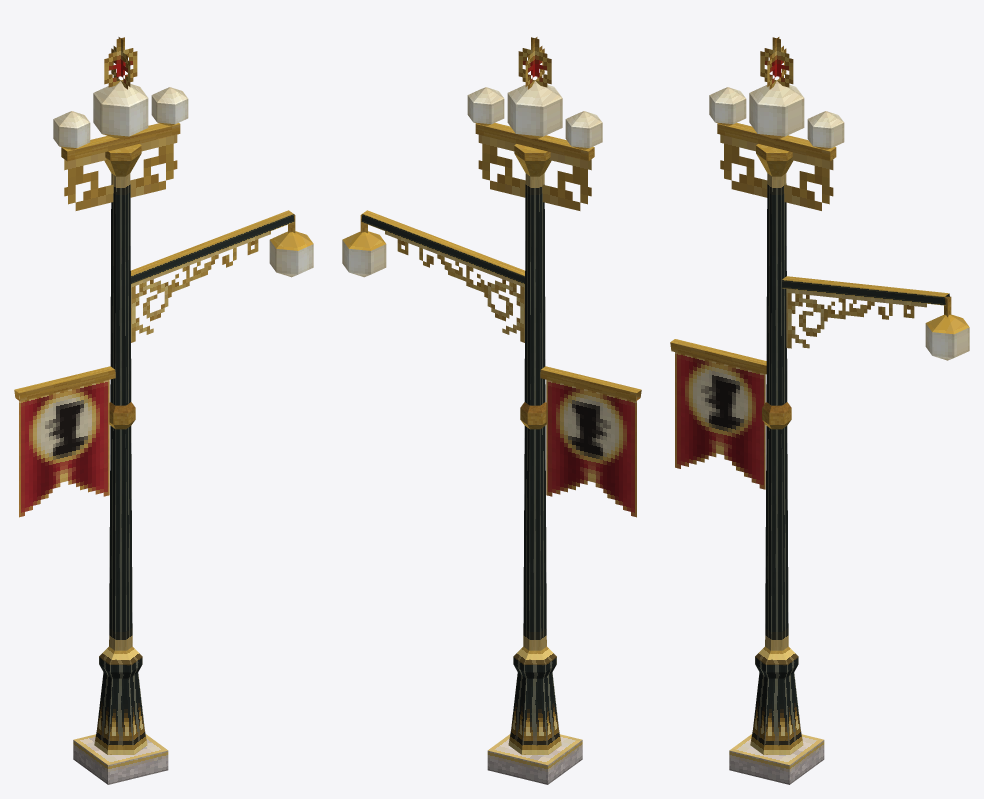
Rendered from env_streetlight_rich.glb.
3 renders of one model, left to right at view 1: azimuth 30°, elevation 25°; view 2: azimuth 150°, elevation 25°; view 3: azimuth 330°, elevation 25°, orthographic.
Parts seen in each view (by area): view 1: env_streetlight_rich; view 2: env_streetlight_rich; view 3: env_streetlight_rich.
Boxes of the visible parts, x1,y1,x2,y2 form: env_streetlight_rich: [14, 37, 313, 784]; env_streetlight_rich: [342, 37, 641, 784]; env_streetlight_rich: [670, 37, 969, 784].
Bounding box in the file's own units: 0.00779 × 0.0188 × 0.0016.
1 material, 1 textured.
